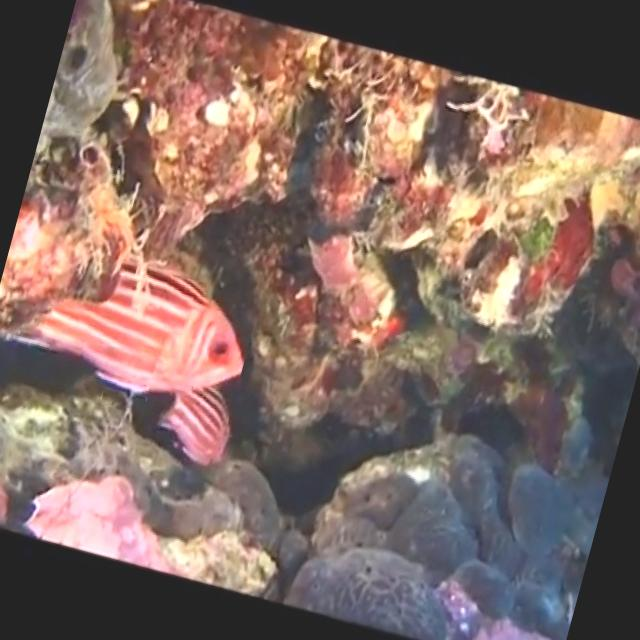Asker Baligi: (0, 218, 271, 472)
